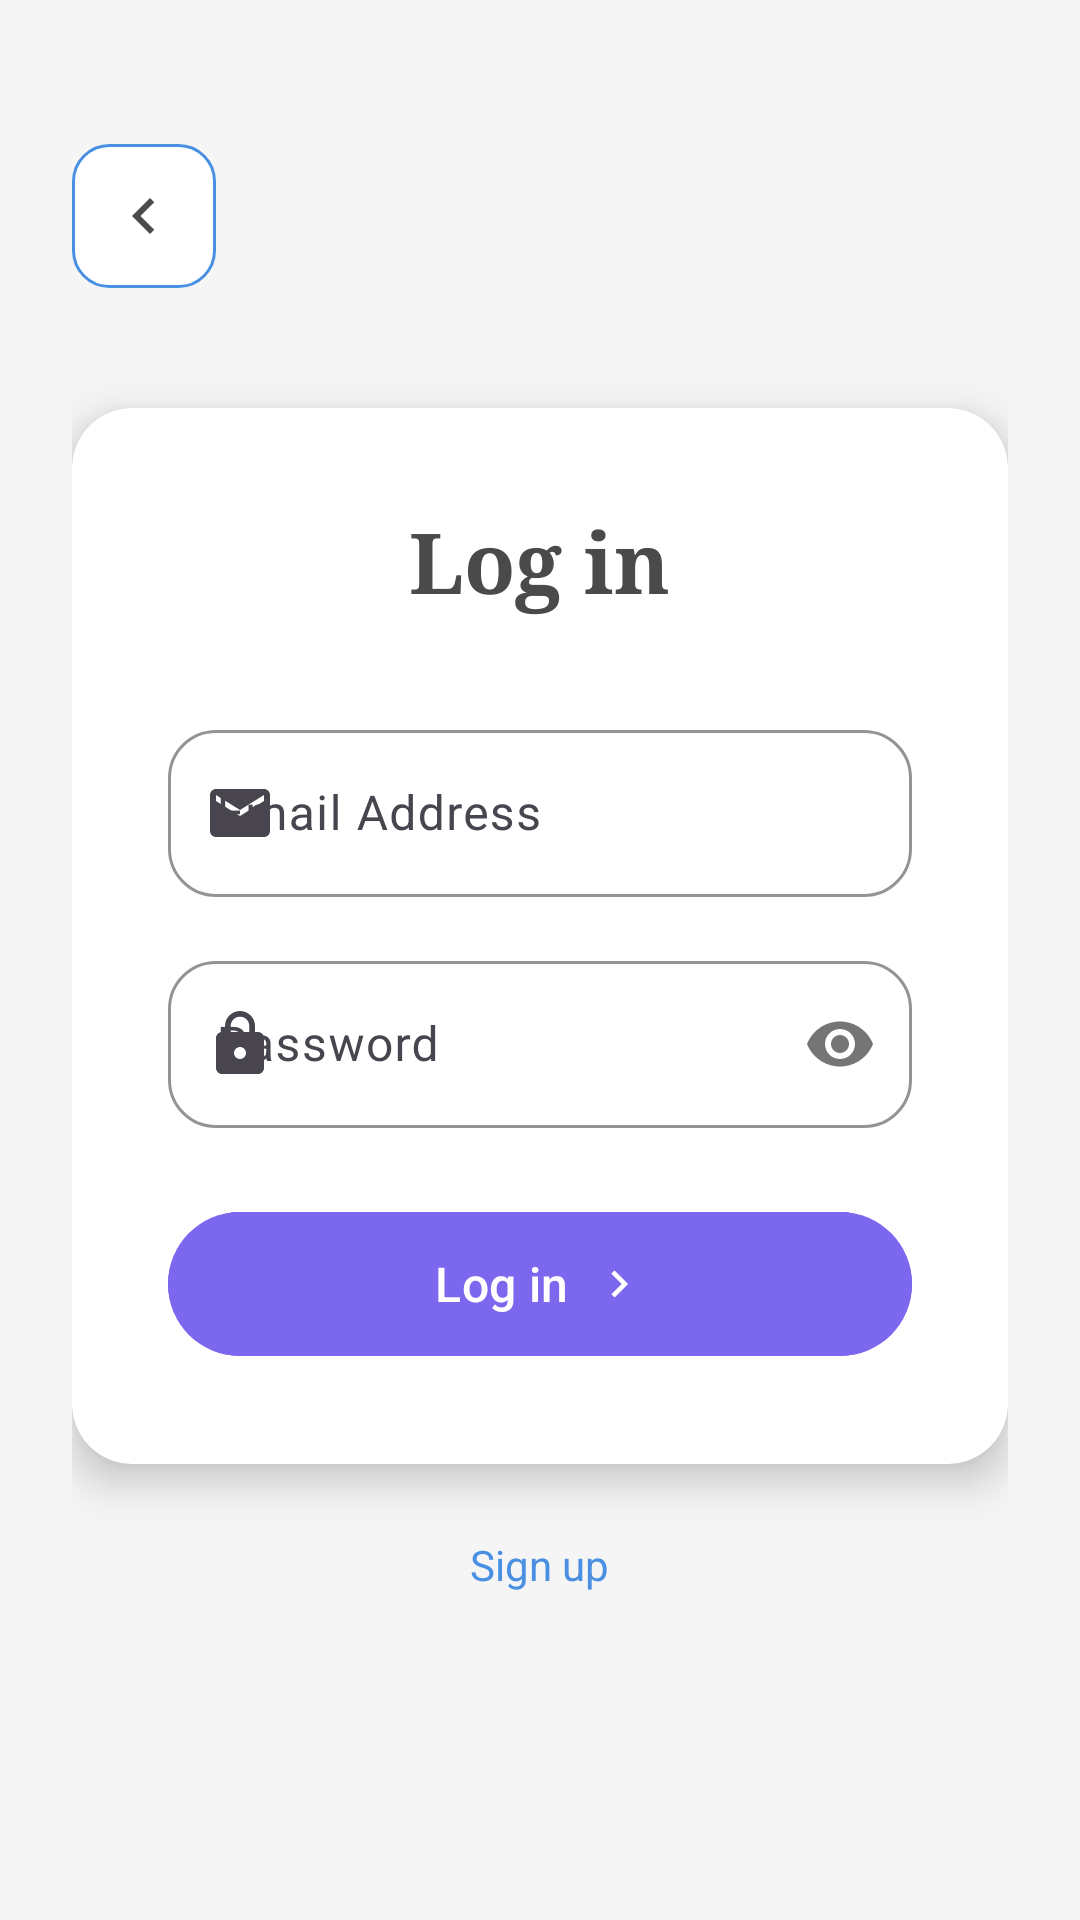

Named icons in this screenshot (1080 × 1920) and their bounding boxes, (left=x1, top=y1, right=x2, bottom=y2):
Back: (left=72, top=144, right=216, bottom=288)
